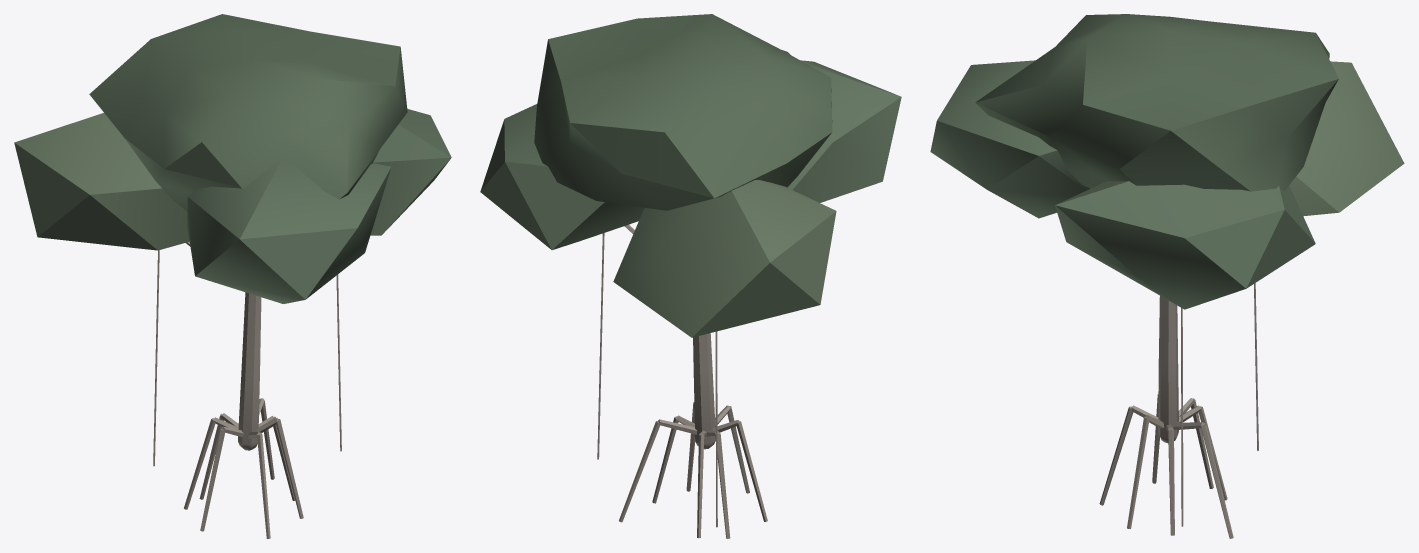
Rendered from mangrove_b.gltf.
3 views of the same model, side by side, from view 1: azimuth 30°, elevation 25°; view 2: azimuth 150°, elevation 25°; view 3: azimuth 270°, elevation 25° (orthographic). The views are drawn at different scales.
Parts seen in each view (by area): view 1: Body; view 2: Body; view 3: Body.
Part boxes in pixels (x1=…): Body: x1=14, y1=14, x2=451, y2=538; Body: x1=480, y1=14, x2=901, y2=538; Body: x1=930, y1=14, x2=1404, y2=538.
Bounding box in the file's own units: 9.7 × 11.99 × 10.55.
